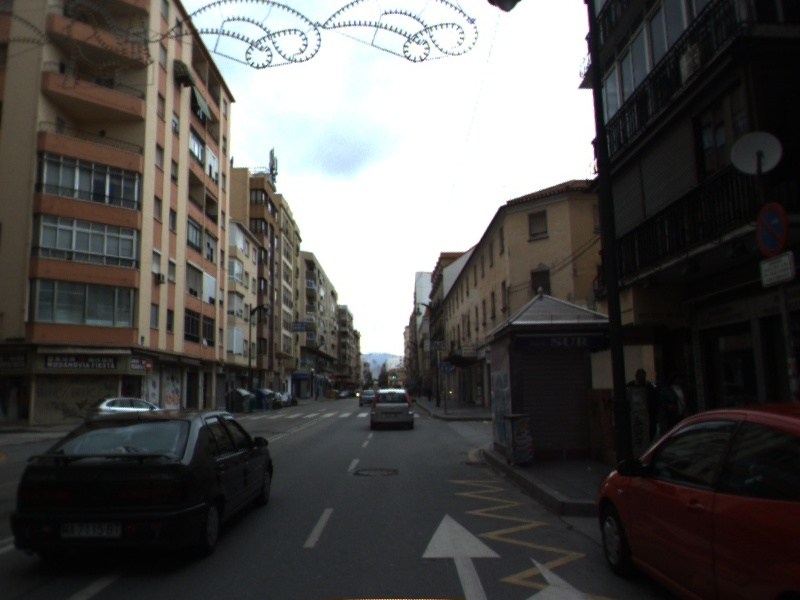STRAIGHT_RIGHT: (417, 511, 600, 600)
